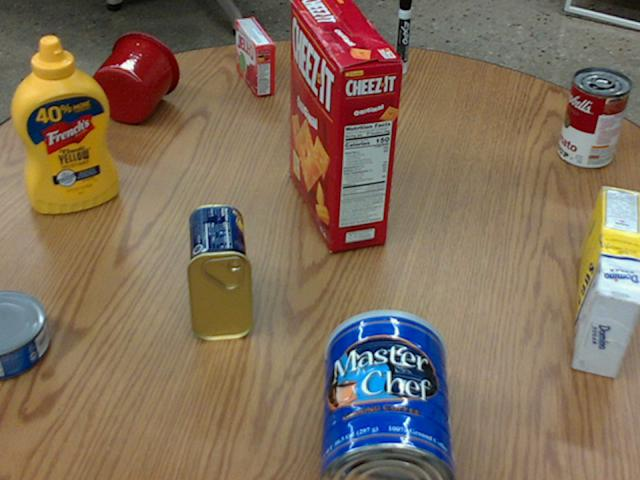cracker_box: (287, 0, 402, 250)
gelatin_box: (237, 18, 276, 96)
large_marker: (394, 0, 412, 73)
master_chef_can: (319, 309, 456, 479)
mug: (90, 32, 179, 123)
mustard_bottle: (12, 35, 118, 212)
potted_meat_can: (185, 203, 251, 340)
sugar_box: (574, 186, 639, 378)
tomato_soup_can: (557, 68, 630, 168)
tuna_fish_can: (0, 289, 48, 376)
